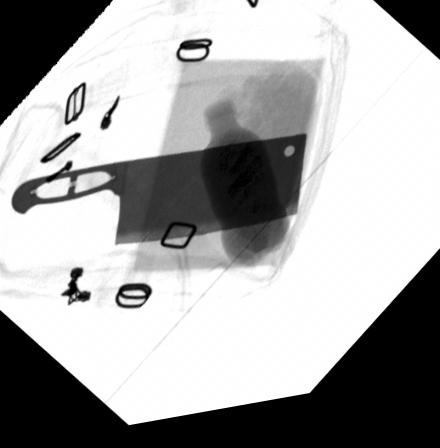Knife: (8, 144, 307, 249)
